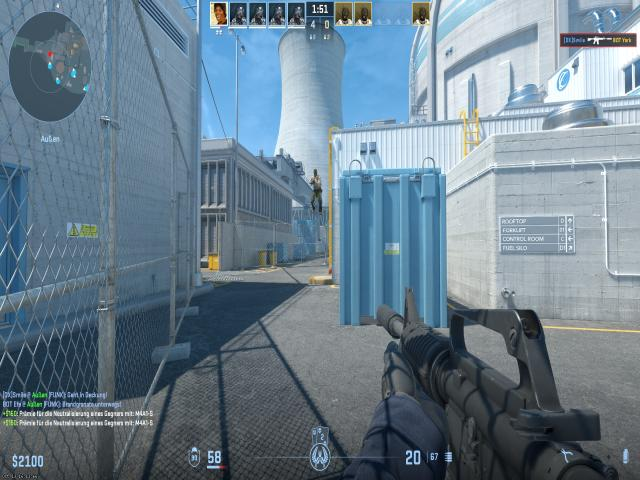T: (311, 168, 322, 208)
T-Head: (313, 168, 318, 178)
